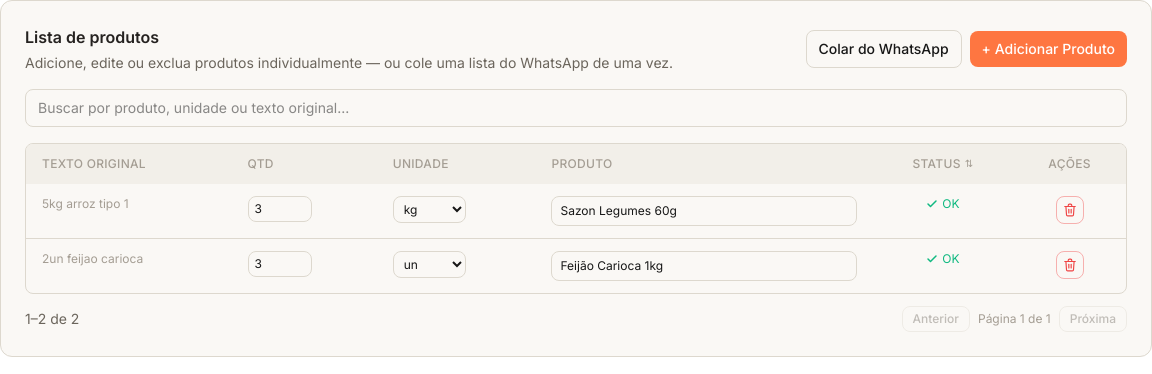
Test: GridProdutosSection — filtro › filtra por texto original, case-insensitive e sem acento
Type "FEIJAO" into the field with placeholder "Buscar por produto, unidade ou texto original...".
click(576, 108); type("FEIJAO")  # box [25,89,1127,127]
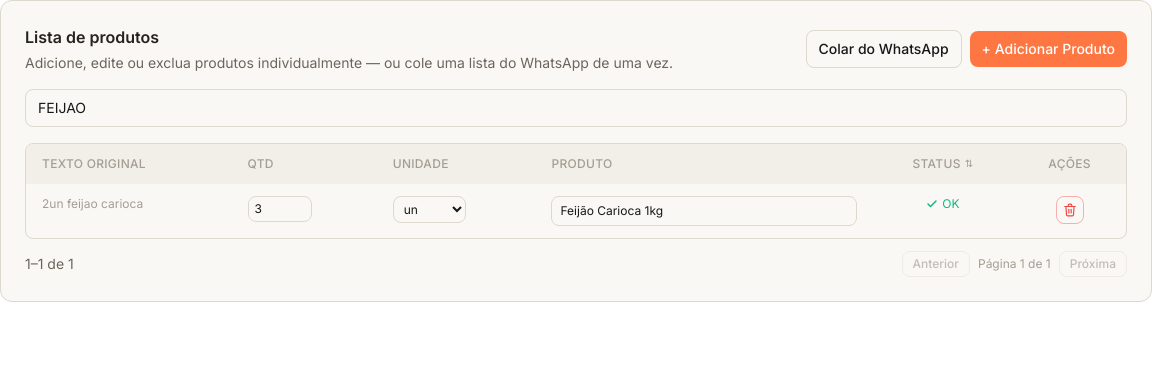
Expected: the text "2un feijao carioca" is shown, [26,184,232,238]
Result: the text "5kg arroz tipo 1" is gone
